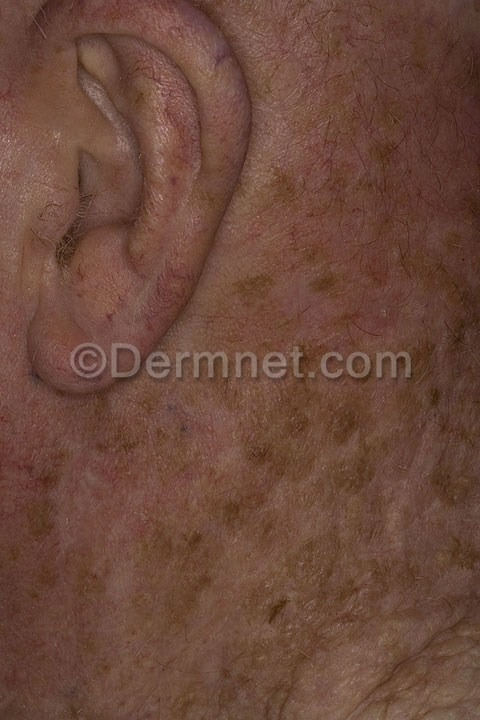Melasma: (11, 388, 480, 720), (26, 13, 475, 339), (421, 338, 480, 402)
